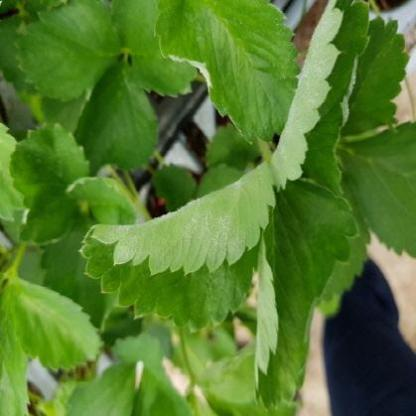Strawberry_Powdery_Mildew_Leaf: (76, 158, 276, 333), (267, 0, 374, 198), (153, 0, 300, 144)
